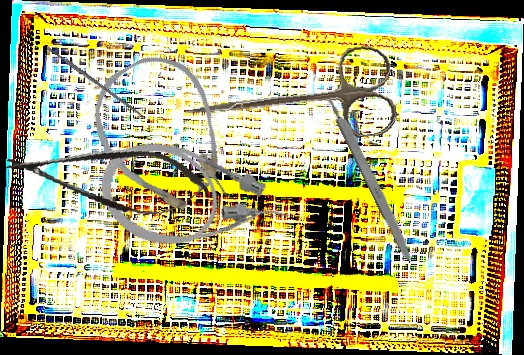Cannula: (75, 40, 254, 237), (87, 127, 299, 279)
Iris Scissors: (179, 42, 400, 162)
Micro Scissor: (2, 131, 213, 225)
Scalpel Handle: (325, 94, 418, 265), (46, 44, 147, 121)
